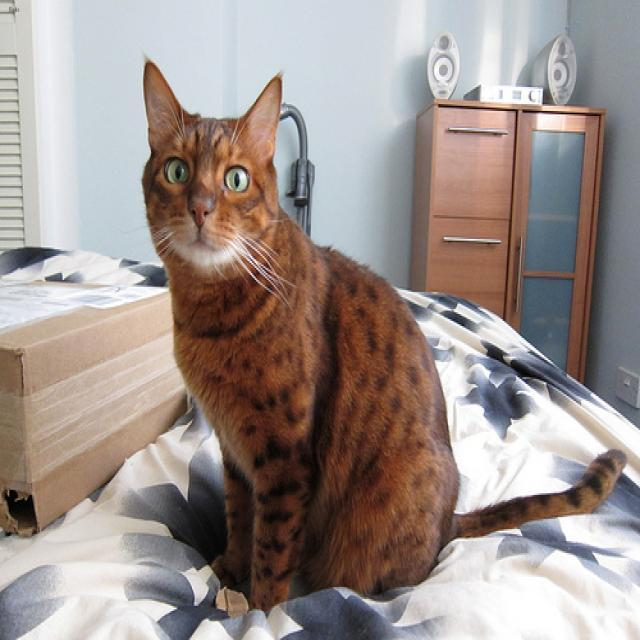Bengal: (136, 54, 291, 279)
